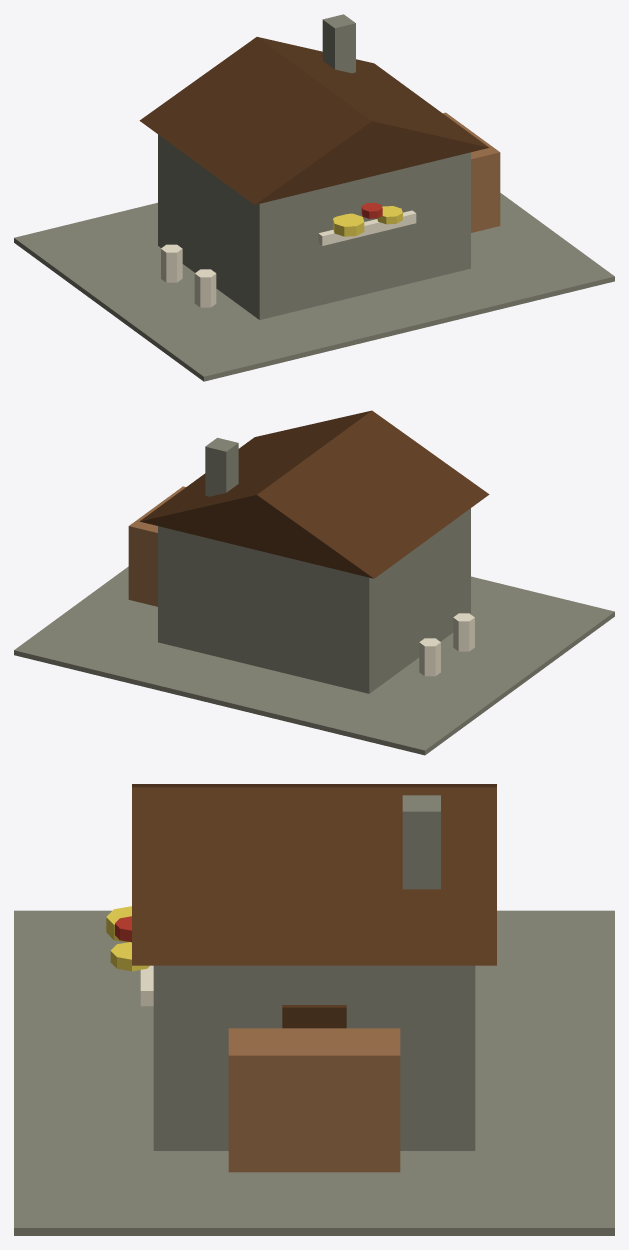
File: cheese_maker_building.glb
The picture shows the model from 3 angles, top to bottom: view 1: azimuth 30°, elevation 25°; view 2: azimuth 150°, elevation 25°; view 3: azimuth 270°, elevation 25°; orthographic projection. The views are drawn at different scales.
Parts seen in each view (by area): view 1: Ground, Body, Roof, Rack, Chimney, Counter, Jug1, Jug2, Cheese1; view 2: Ground, Body, Roof, Rack, Chimney, Jug1, Jug2; view 3: Ground, Roof, Body, Rack, Chimney, Door, Cheese2.
Part boxes in pixels (left/top/right/bottom): Ground: left=14, top=193, right=614, bottom=381; Body: left=158, top=134, right=470, bottom=319; Roof: left=139, top=37, right=489, bottom=204; Rack: left=443, top=112, right=500, bottom=232; Chimney: left=322, top=14, right=355, bottom=73; Counter: left=318, top=210, right=416, bottom=245; Jug1: left=194, top=269, right=216, bottom=307; Jug2: left=161, top=244, right=182, bottom=282; Cheese1: left=333, top=213, right=364, bottom=236; Ground: left=14, top=566, right=614, bottom=755; Body: left=158, top=508, right=470, bottom=693; Roof: left=139, top=410, right=489, bottom=578; Rack: left=128, top=486, right=185, bottom=606; Chimney: left=205, top=437, right=238, bottom=496; Jug1: left=453, top=613, right=474, bottom=651; Jug2: left=419, top=638, right=440, bottom=676; Ground: left=14, top=910, right=614, bottom=1235; Roof: left=132, top=784, right=496, bottom=965; Body: left=153, top=965, right=475, bottom=1150; Rack: left=228, top=1028, right=400, bottom=1172; Chimney: left=402, top=795, right=440, bottom=889; Door: left=282, top=1005, right=346, bottom=1028; Cheese2: left=110, top=942, right=149, bottom=971.
Size of the model in its own units: 3.5 by 1.64 by 2.8.
